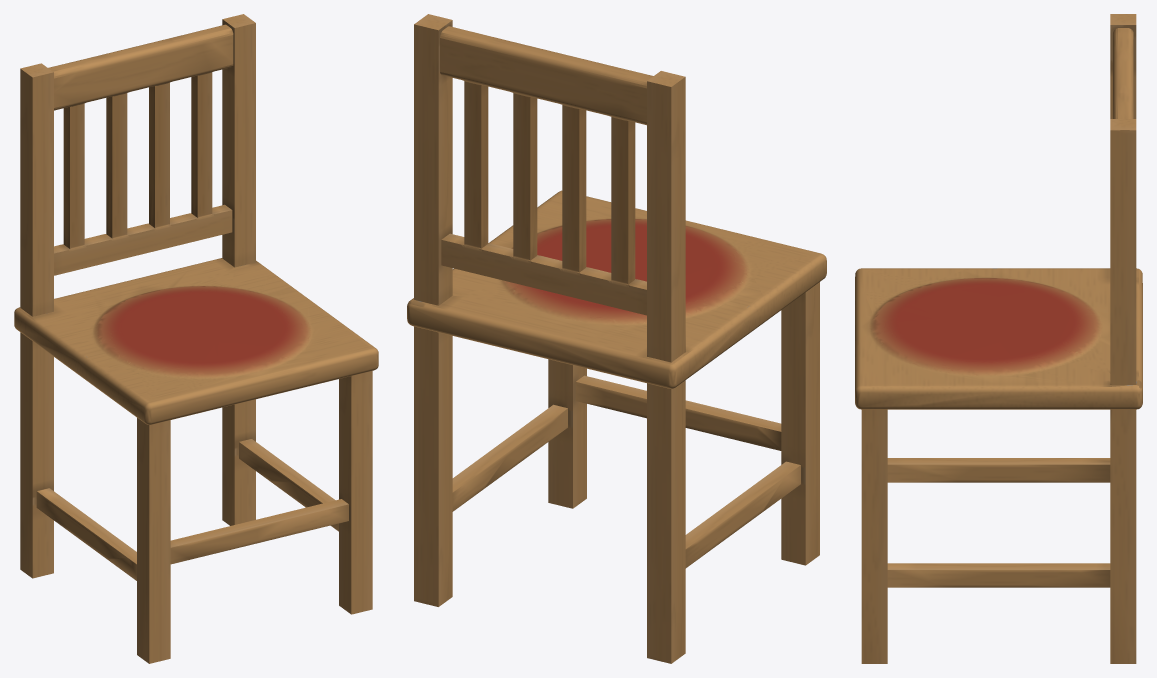
File: chair_edits.glb
3 views of the same model, side by side, from view 1: azimuth 30°, elevation 25°; view 2: azimuth 150°, elevation 25°; view 3: azimuth 270°, elevation 25° (orthographic). The views are drawn at different scales.
Visible parts, largest first — view 1: chair_edits; view 2: chair_edits; view 3: chair_edits.
Part boxes in pixels (<box>): chair_edits: <box>14,14,378,663</box>; chair_edits: <box>407,14,826,663</box>; chair_edits: <box>855,14,1142,663</box>.
Size of the model in its own units: 0.44 by 0.9 by 0.44.
Materials: 1 (1 with a texture image).
